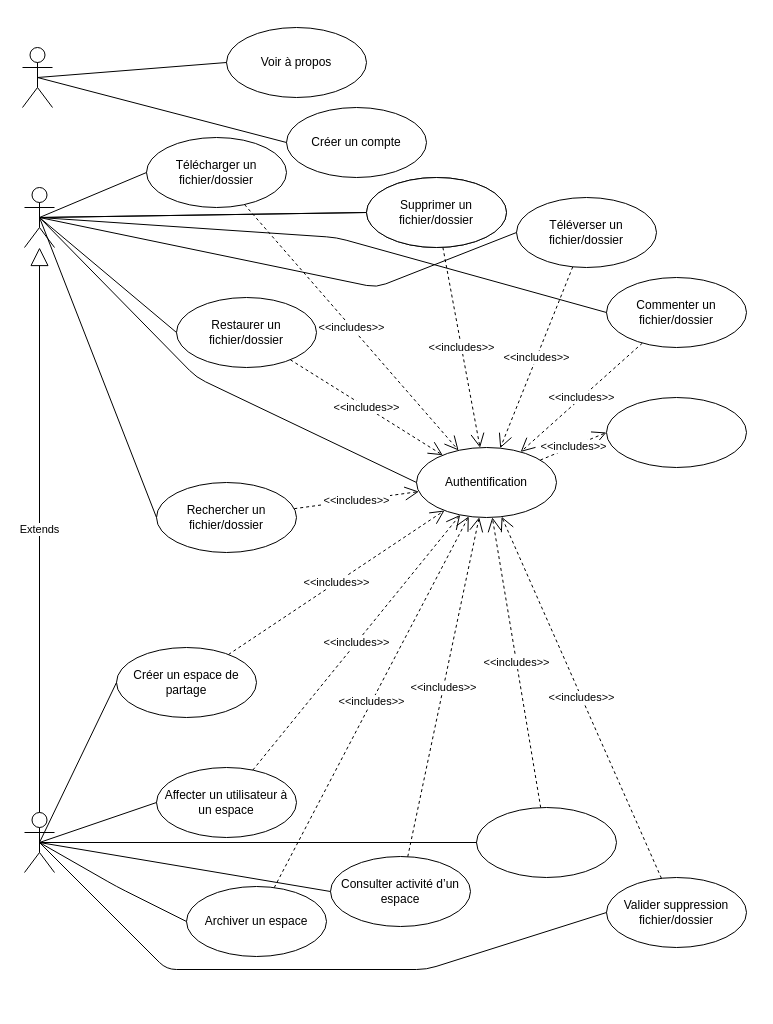
Some shapes in this 773 by 1024 pixel diagram are drawn without their labels. Here are the shapes that lost their labels. From the top down, the centre of each, then its label:
At point (37, 77): "Visiteur".
At point (39, 217): "User".
At point (676, 432): "Avoir un compte".
At point (39, 842): "Admin".
At point (546, 842): "Révoquer un utilisateur d’un espace".
